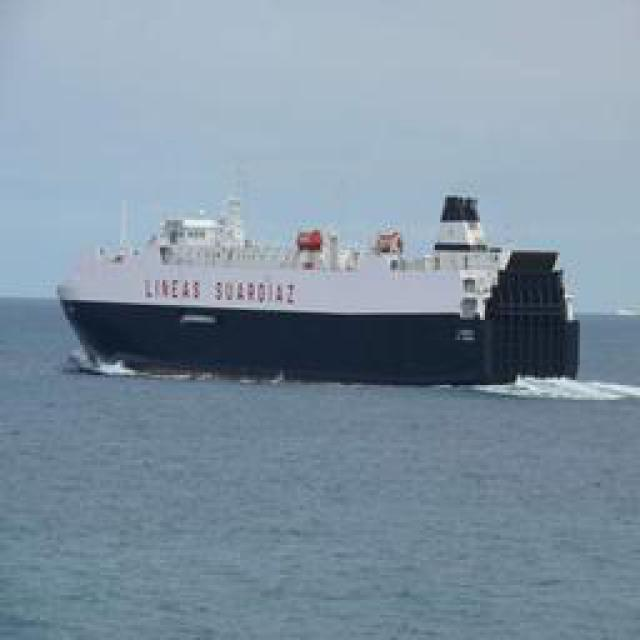Ship: (46, 190, 584, 375)
